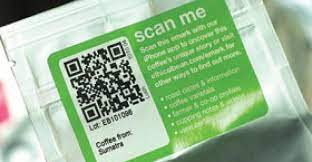qr_code: (57, 40, 145, 123)
